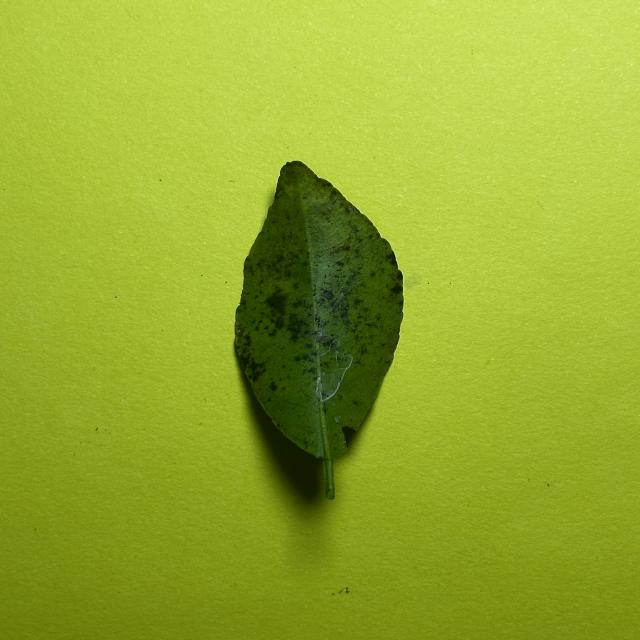sooty_mold: (235, 161, 403, 477)
